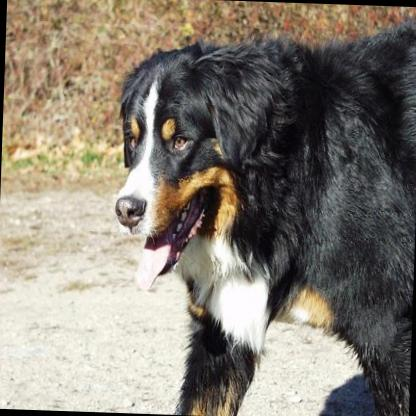Bernese_mountain_dog: (107, 5, 416, 416)
